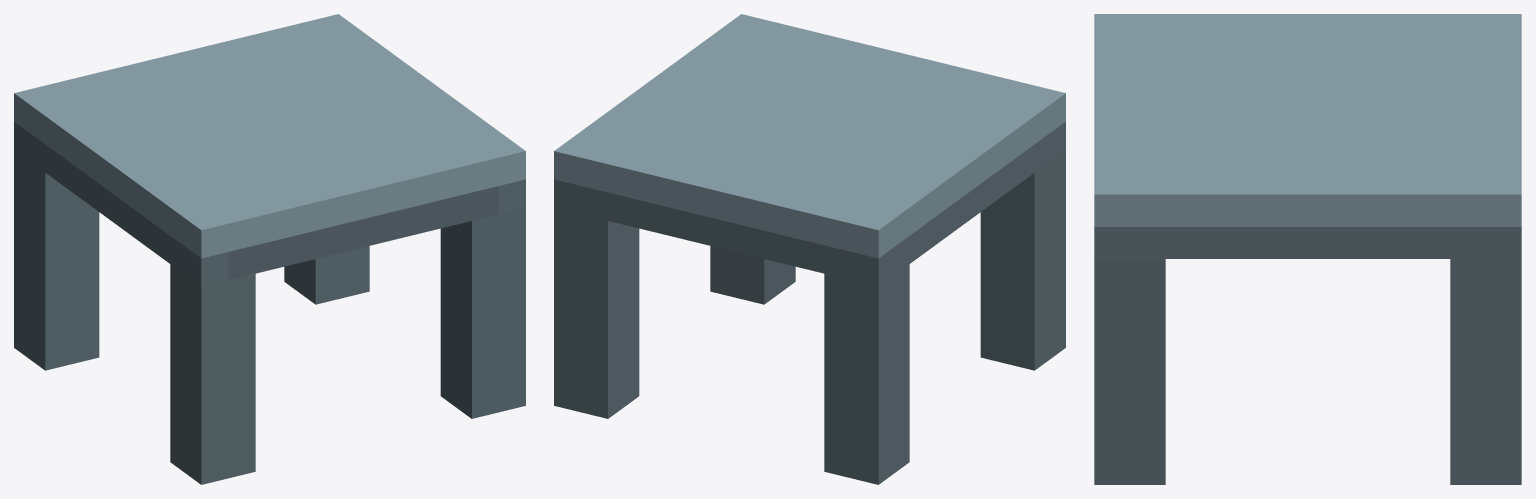
File: mesa_calafateo_desgastada_01.glb
3 renders of one model, left to right at view 1: azimuth 30°, elevation 25°; view 2: azimuth 150°, elevation 25°; view 3: azimuth 270°, elevation 25°, orthographic. The views are drawn at different scales.
Visible parts, largest first — view 1: mesa_calafateo_desgastada; view 2: mesa_calafateo_desgastada; view 3: mesa_calafateo_desgastada.
Part boxes in pixels (bbox=[...]): mesa_calafateo_desgastada: bbox=[14, 14, 525, 484]; mesa_calafateo_desgastada: bbox=[554, 14, 1065, 484]; mesa_calafateo_desgastada: bbox=[1094, 14, 1521, 484].
Bounding box in the file's own units: 1 × 0.75 × 1.
